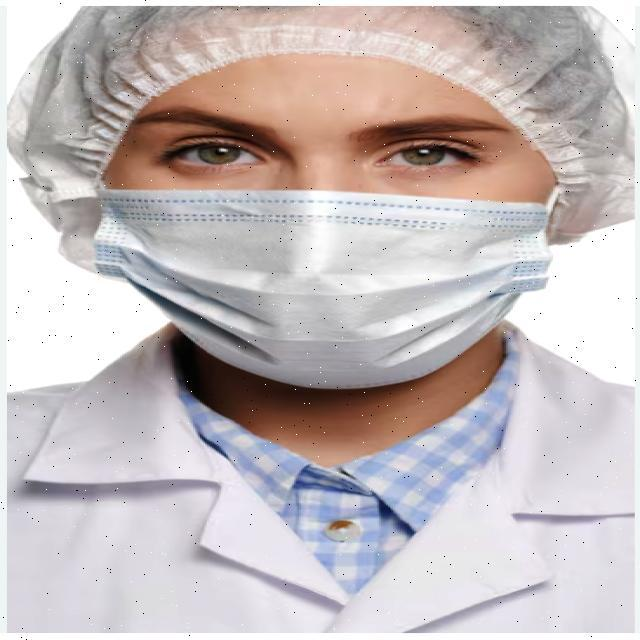face_mask: (53, 27, 597, 377)
